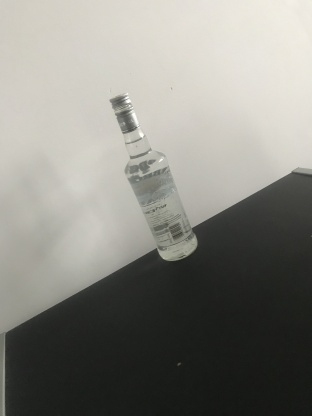nakretka: (107, 91, 140, 134)
